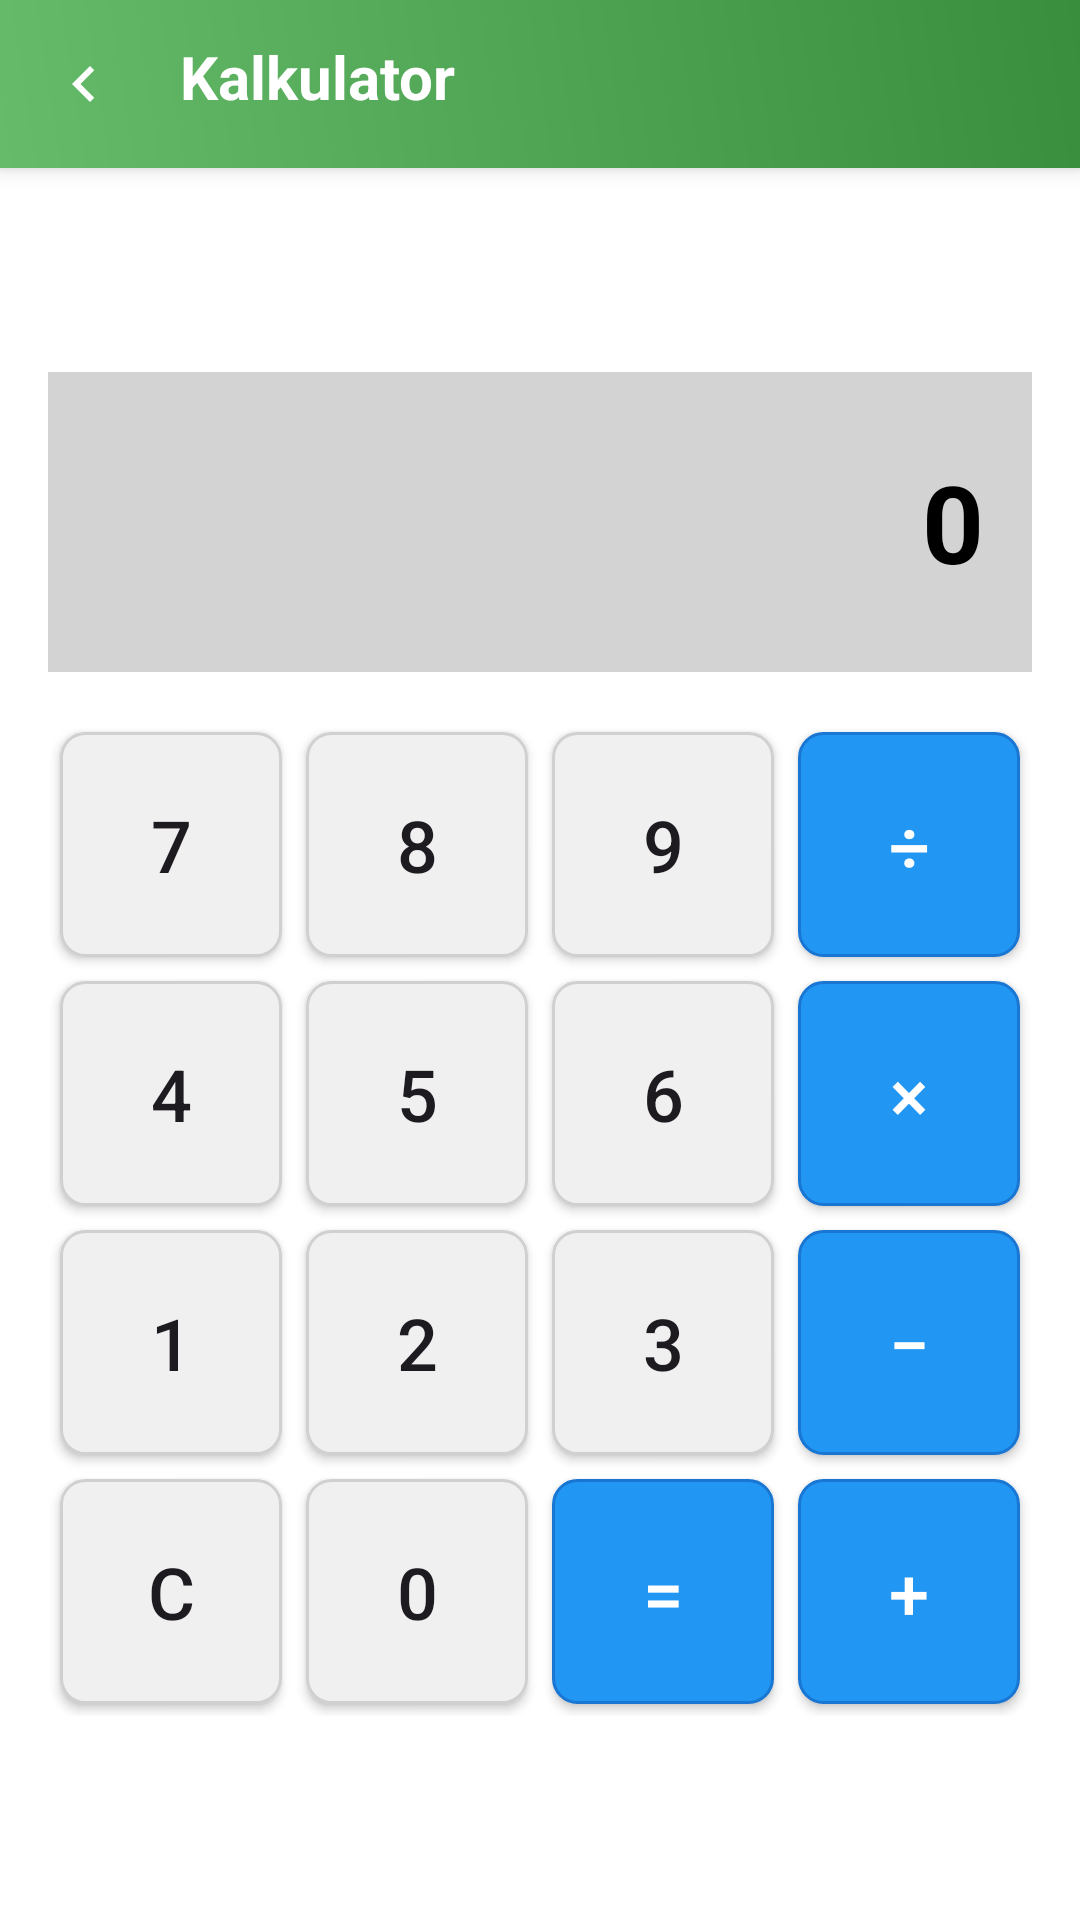

Icon click points for this 1080x1920 phone screenshot, format point (x, y):
Kembali: point (83, 84)
